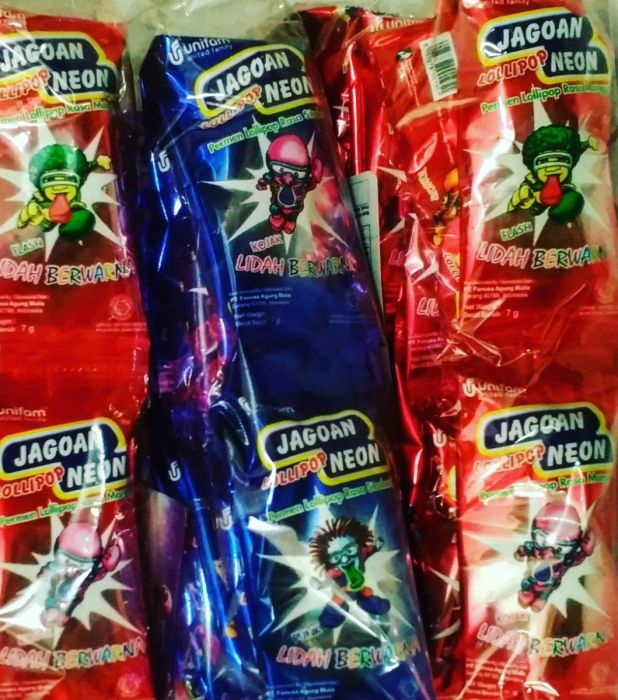jagoan_neon: (157, 35, 384, 373), (212, 379, 435, 700), (454, 336, 618, 698), (456, 1, 614, 351), (1, 13, 150, 366), (2, 366, 150, 698)
